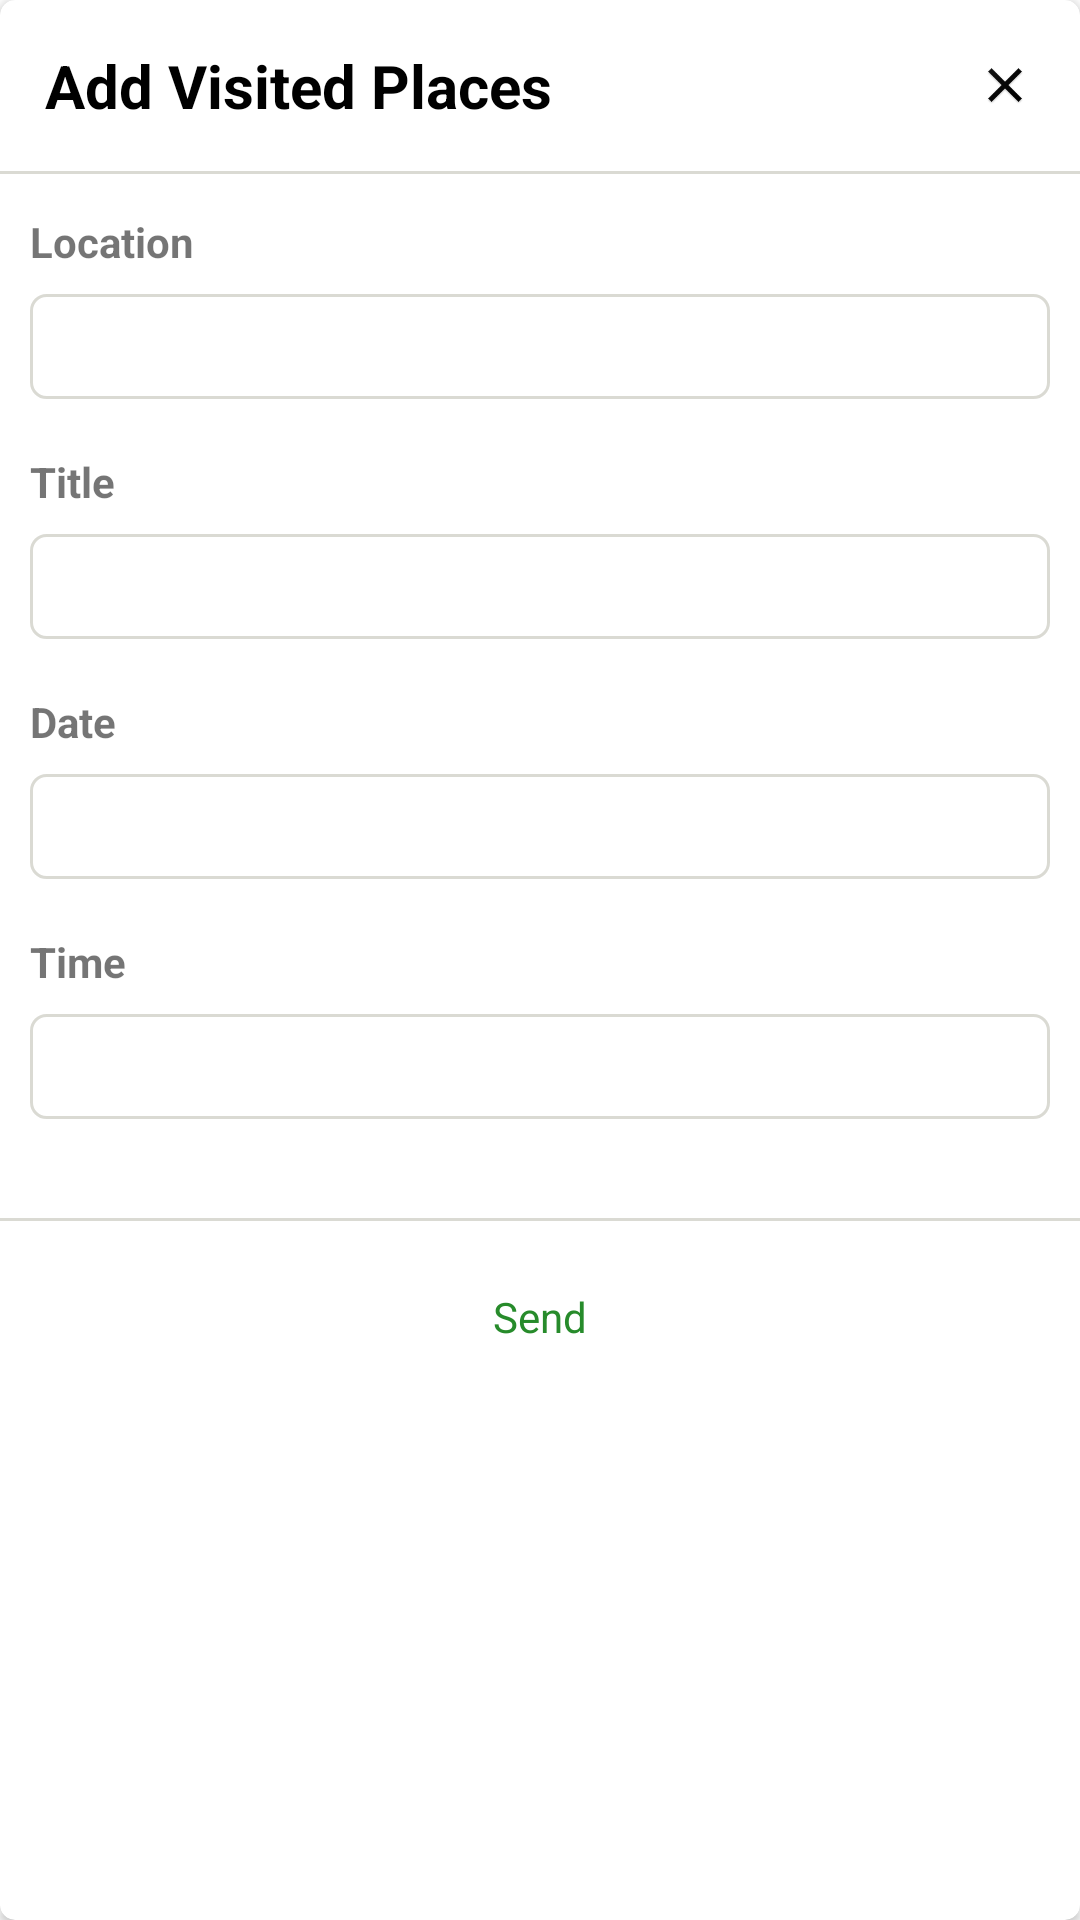

Named icons in this screenshot (1080×1920) and their bounding boxes, (x1,y1,x2,y2):
close: (988,68,1022,102)
